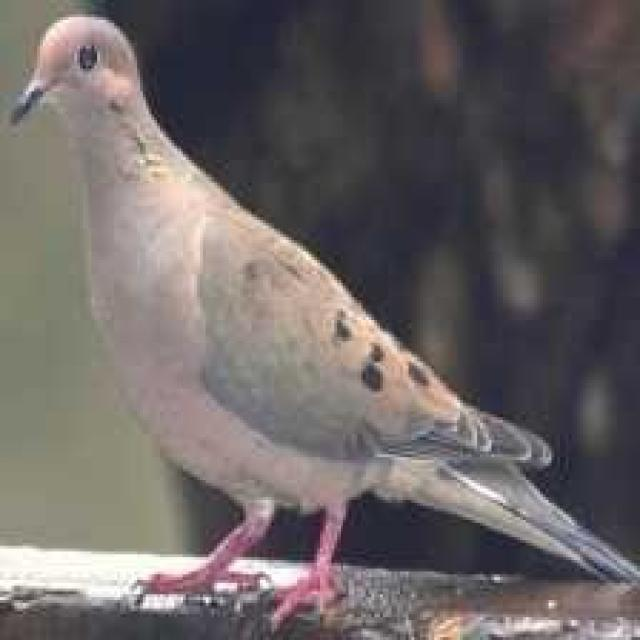dove: (4, 5, 633, 630)
